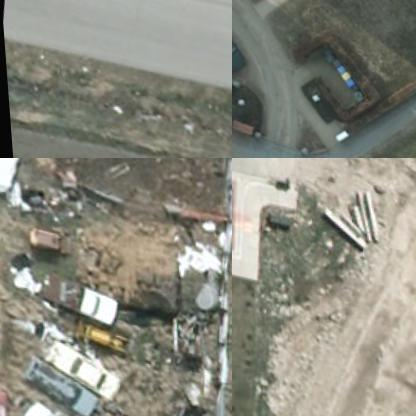car: (30, 336, 122, 401), (232, 168, 242, 257), (232, 12, 244, 70)
other: (7, 348, 97, 415)
pickup: (35, 266, 120, 320)
truck: (3, 389, 117, 415)
